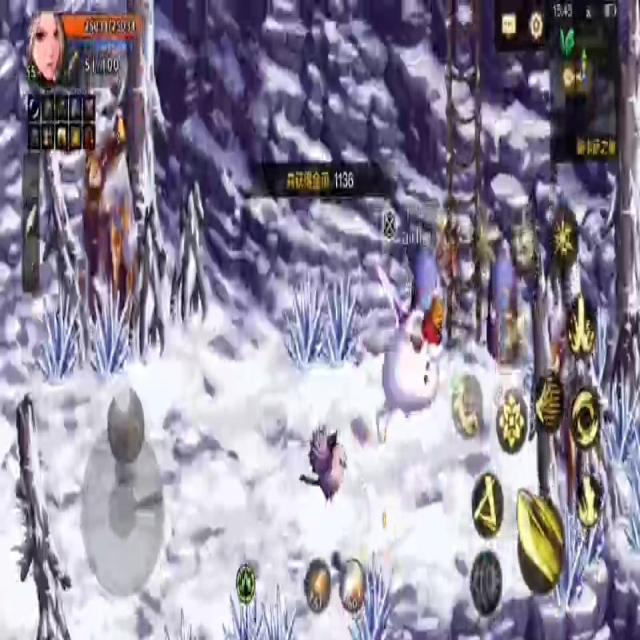player: (378, 286, 448, 450)
